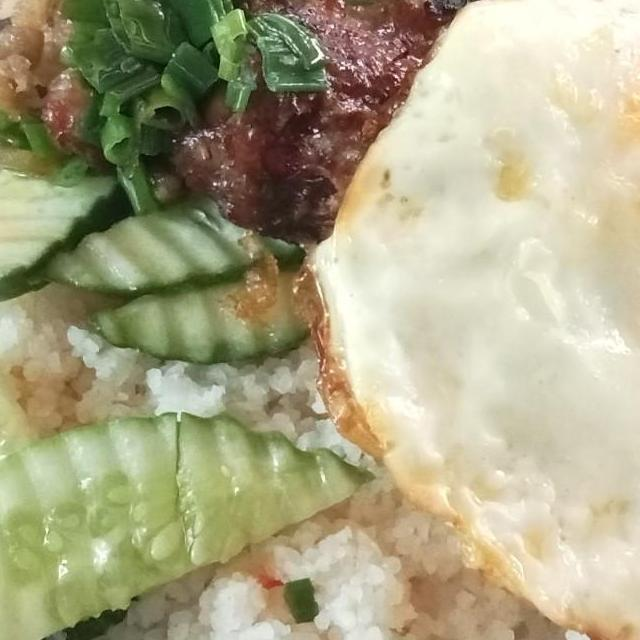com: (0, 148, 640, 640)
com suon bi cha trung: (0, 0, 640, 640)
dua chua: (0, 1, 75, 281)
suon: (18, 0, 640, 256)
trung: (287, 0, 640, 640)
